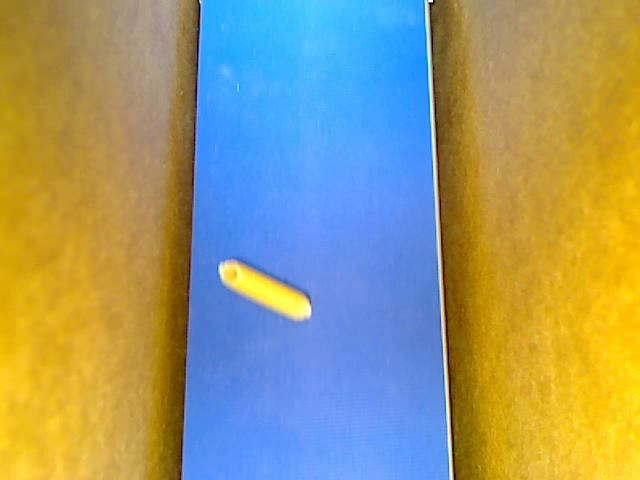penne: (217, 258, 311, 322)
